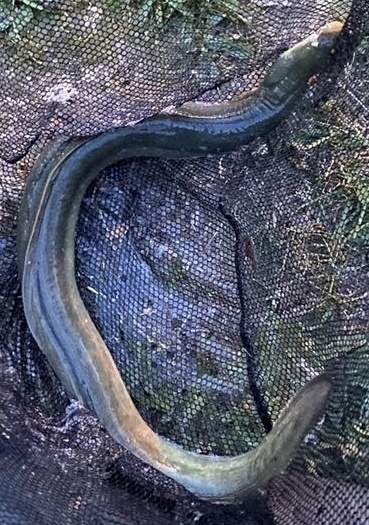Anguilla anguilla: (20, 20, 349, 505)
